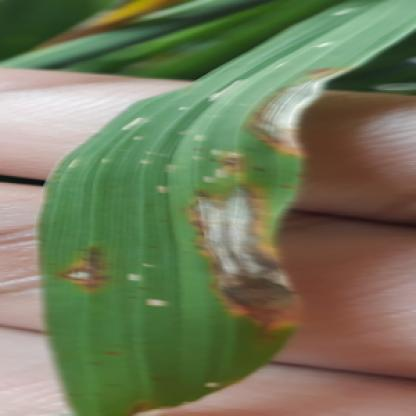Rice blast: (192, 178, 312, 338), (248, 76, 324, 169), (57, 242, 104, 299)
